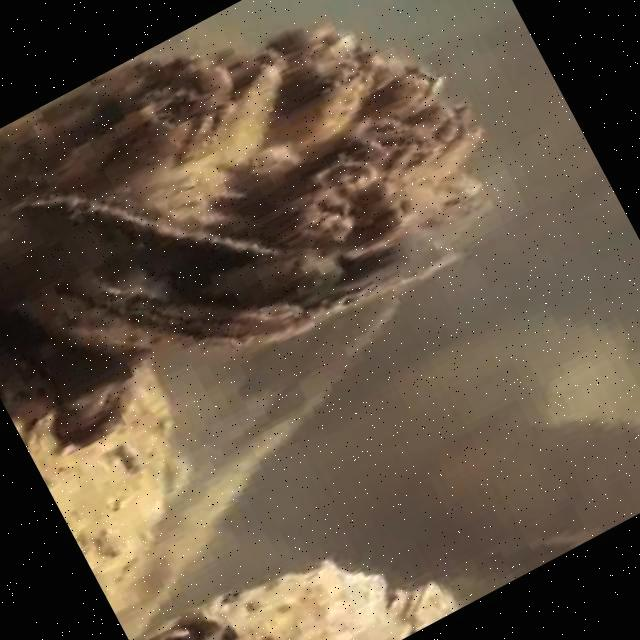Oyster-Closed: (0, 357, 175, 609), (214, 560, 403, 640), (10, 326, 135, 445), (402, 583, 458, 636), (138, 613, 225, 640)
Oyster-Open: (2, 32, 494, 348)
